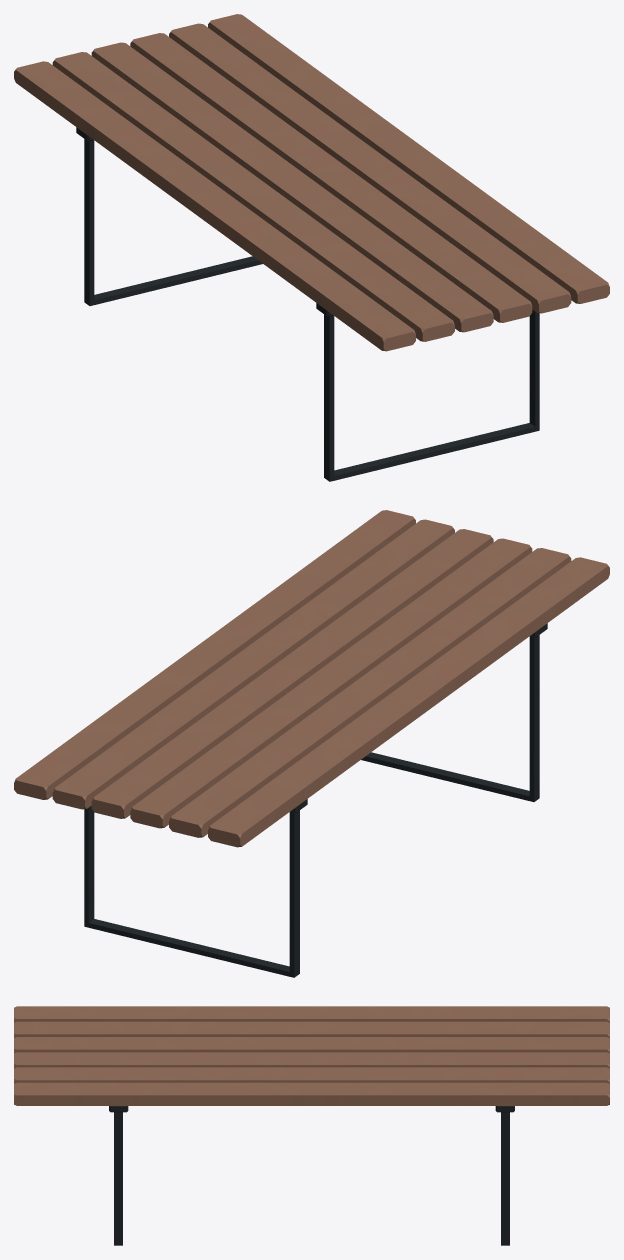
File: Table_04_02.fbx
The picture shows the model from 3 angles, top to bottom: view 1: azimuth 30°, elevation 25°; view 2: azimuth 150°, elevation 25°; view 3: azimuth 270°, elevation 25°; orthographic projection. The views are drawn at different scales.
Parts seen in each view (by area): view 1: Table_04_02; view 2: Table_04_02; view 3: Table_04_02.
Part boxes in pixels (x1,y1,x2,y2): Table_04_02: [14, 14, 609, 481]; Table_04_02: [14, 510, 609, 977]; Table_04_02: [14, 1006, 609, 1245].
Size of the model in its own units: 0.8031 by 0.6451 by 2.27.
